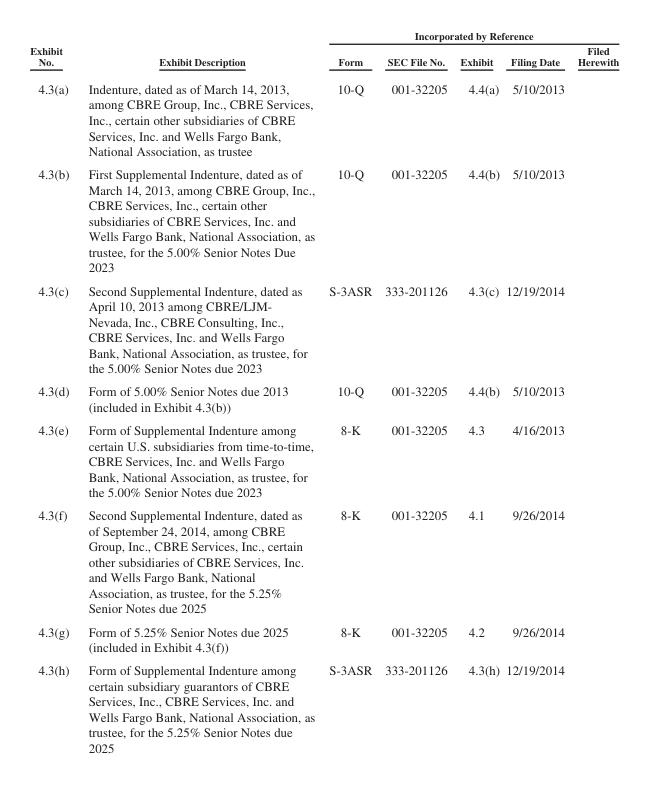table: (29, 29, 618, 754)
table column: (78, 29, 321, 754), (377, 29, 453, 754), (502, 29, 570, 754), (321, 29, 377, 754), (29, 29, 78, 754), (453, 29, 502, 754), (570, 29, 618, 754)
table column header: (29, 29, 618, 418)
table row: (29, 42, 618, 418), (29, 503, 618, 619), (29, 658, 618, 754), (29, 418, 618, 503), (29, 619, 618, 658), (29, 29, 618, 42)
table spanning cell: (78, 29, 321, 418), (29, 29, 78, 418), (321, 29, 618, 42)
